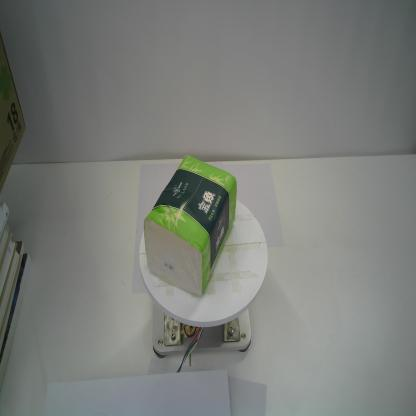Tissue: (142, 154, 239, 298)
